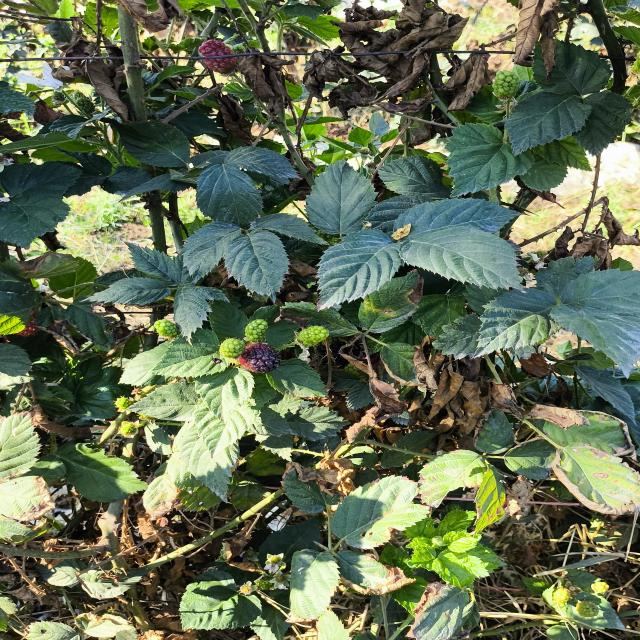marron: (239, 343, 280, 373)
verde: (298, 325, 329, 347), (219, 338, 246, 359), (244, 319, 268, 342), (154, 319, 179, 338)
